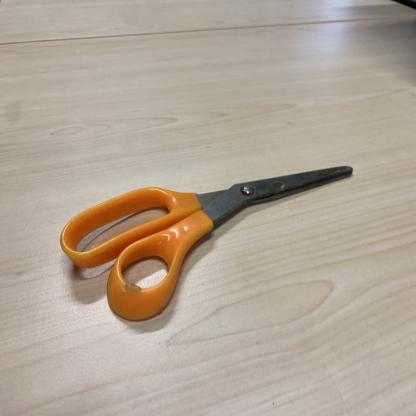scissors: (60, 164, 354, 322)
